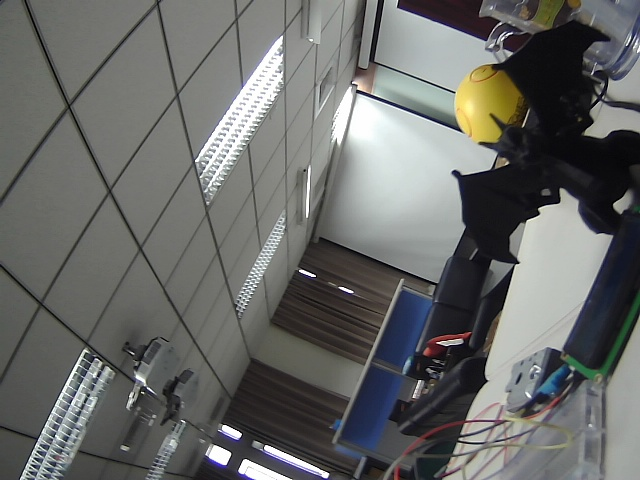charizard: (439, 16, 640, 267)
